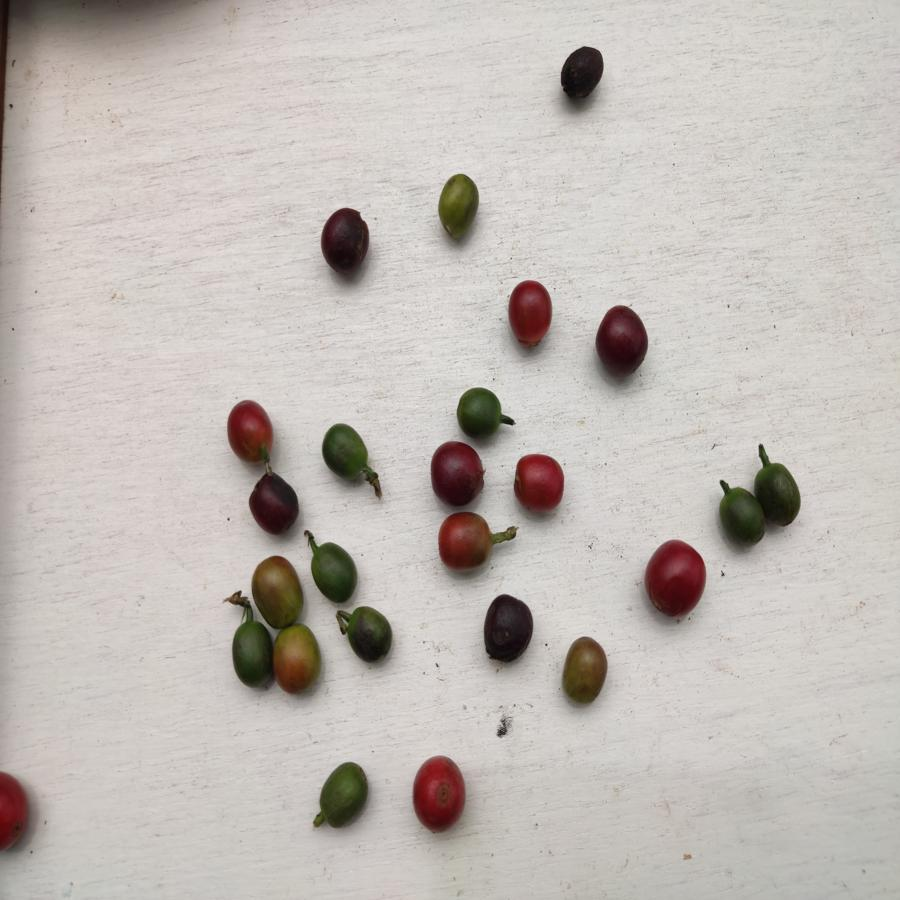Inmaduro: (315, 758, 372, 831), (753, 462, 805, 529), (308, 540, 360, 605), (233, 617, 273, 694), (714, 483, 762, 545), (320, 423, 374, 478), (343, 605, 396, 660), (456, 384, 507, 441)
Maduro: (642, 536, 709, 618), (410, 752, 467, 837), (504, 275, 558, 350), (508, 451, 569, 517), (220, 398, 278, 464), (439, 510, 491, 570)
Pinton: (558, 636, 617, 706), (251, 555, 309, 623), (272, 621, 322, 696), (434, 173, 481, 242)
Sobremaduro: (596, 305, 650, 380), (320, 202, 372, 271), (429, 441, 485, 505), (483, 593, 533, 664), (250, 470, 300, 536), (560, 44, 607, 100)
